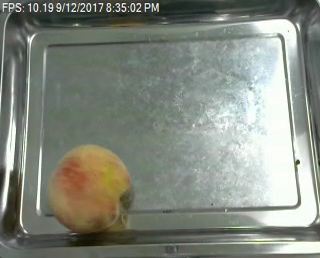Peach: (48, 142, 130, 233)
